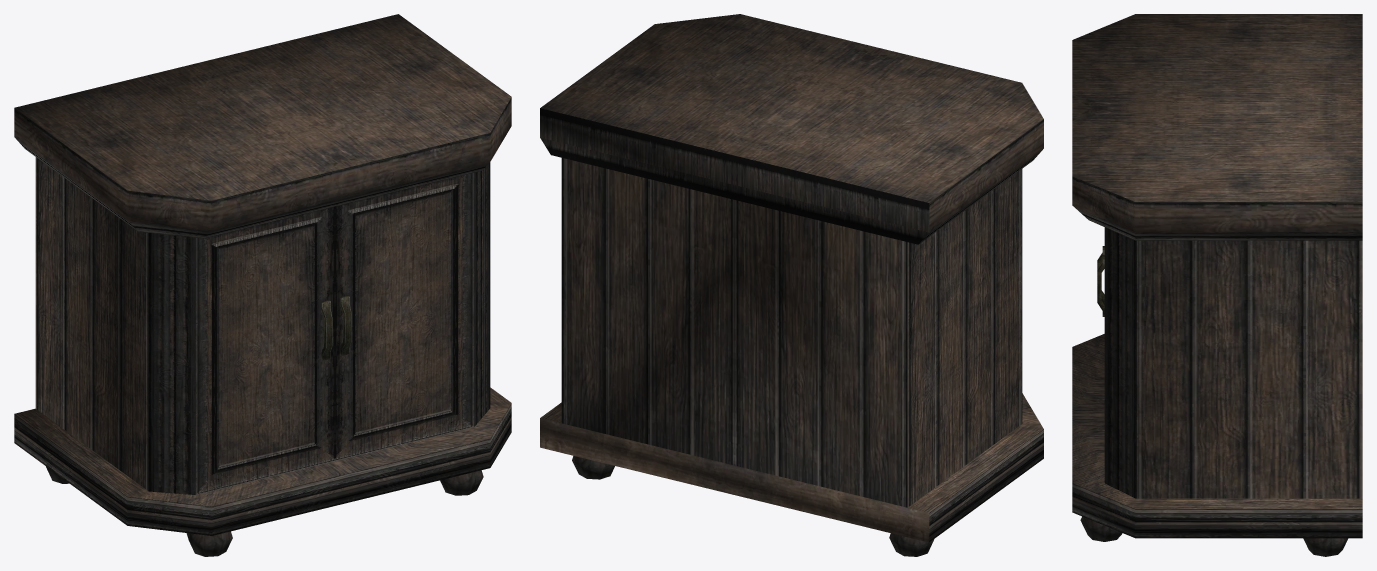
The model's file is GS_CITY_CUPBOARD_BLACK_01_2_KOZA.glb.
3 views of the same model, side by side, from view 1: azimuth 30°, elevation 25°; view 2: azimuth 150°, elevation 25°; view 3: azimuth 270°, elevation 25° (orthographic).
Parts seen in each view (by area): view 1: Mesh; view 2: Mesh; view 3: Mesh.
Boxes of the visible parts, x1,y1,x2,y2 form: Mesh: (14,14,511,556); Mesh: (540,14,1043,556); Mesh: (1072,14,1362,556).
Bounding box in the file's own units: 1.38 × 1.25 × 0.9.
4 materials, 4 textured.
